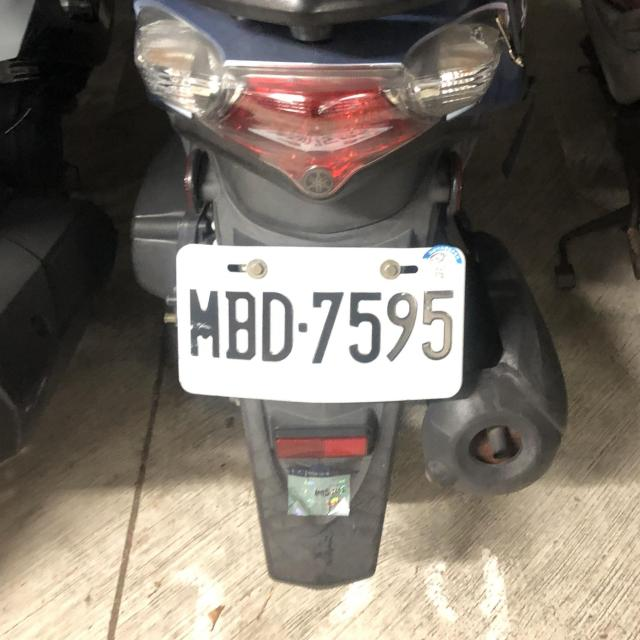W: (166, 237, 471, 408)
